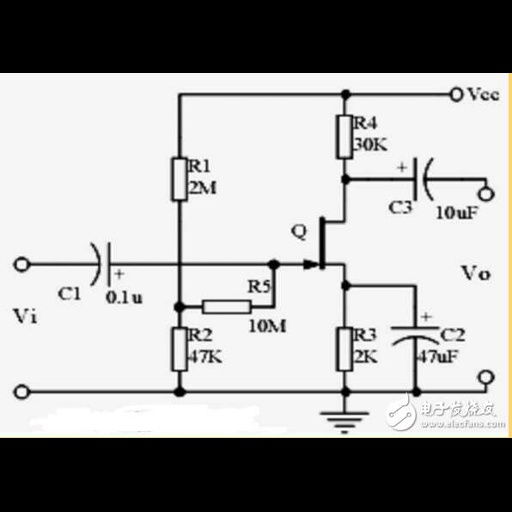firstpolarcapacitor: (391, 154, 441, 200), (83, 238, 128, 289), (389, 307, 441, 347)
firstresistance: (328, 321, 354, 375), (330, 110, 354, 166), (195, 295, 253, 318), (166, 324, 189, 375), (166, 154, 189, 204)
gnd: (309, 411, 372, 434)
